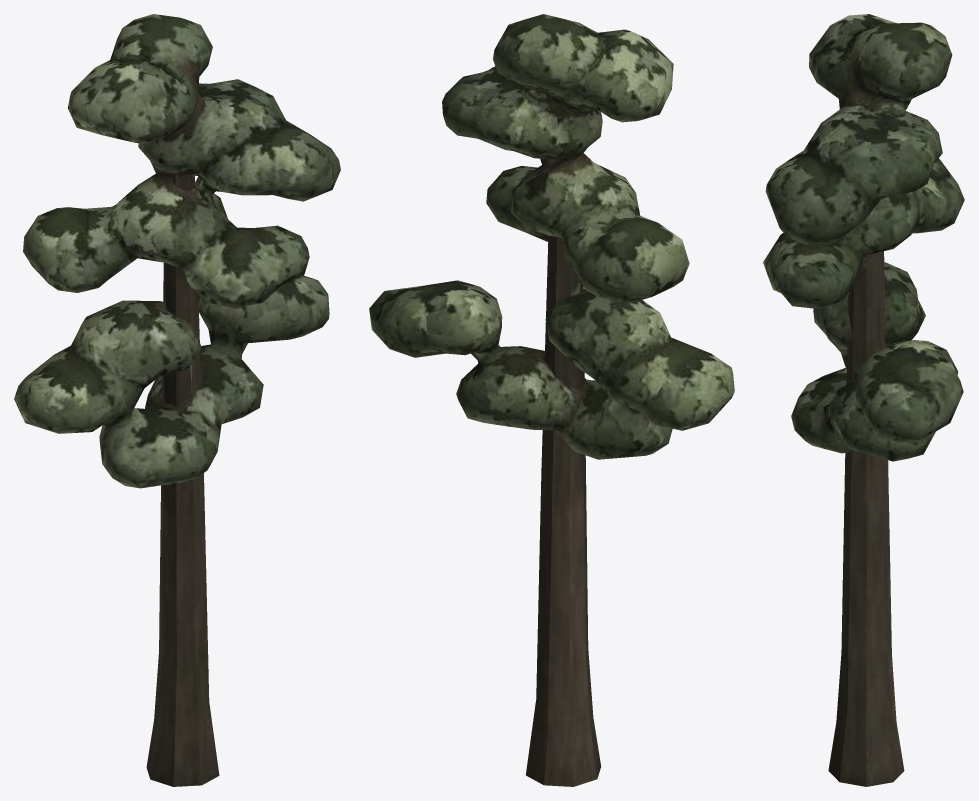
Rendered from tree_tall_a_far.glb.
3 views of the same model, side by side, from view 1: azimuth 30°, elevation 25°; view 2: azimuth 150°, elevation 25°; view 3: azimuth 270°, elevation 25° (orthographic). The views are drawn at different scales.
Visible parts, largest first — view 1: tree_tall_a_lod1; view 2: tree_tall_a_lod1; view 3: tree_tall_a_lod1.
Boxes of the visible parts, bbox=[...] form: tree_tall_a_lod1: bbox=[14, 14, 340, 786]; tree_tall_a_lod1: bbox=[369, 14, 734, 786]; tree_tall_a_lod1: bbox=[763, 14, 964, 786].
Bounding box in the file's own units: 2.29 × 5 × 1.23.
1 material, 1 textured.
